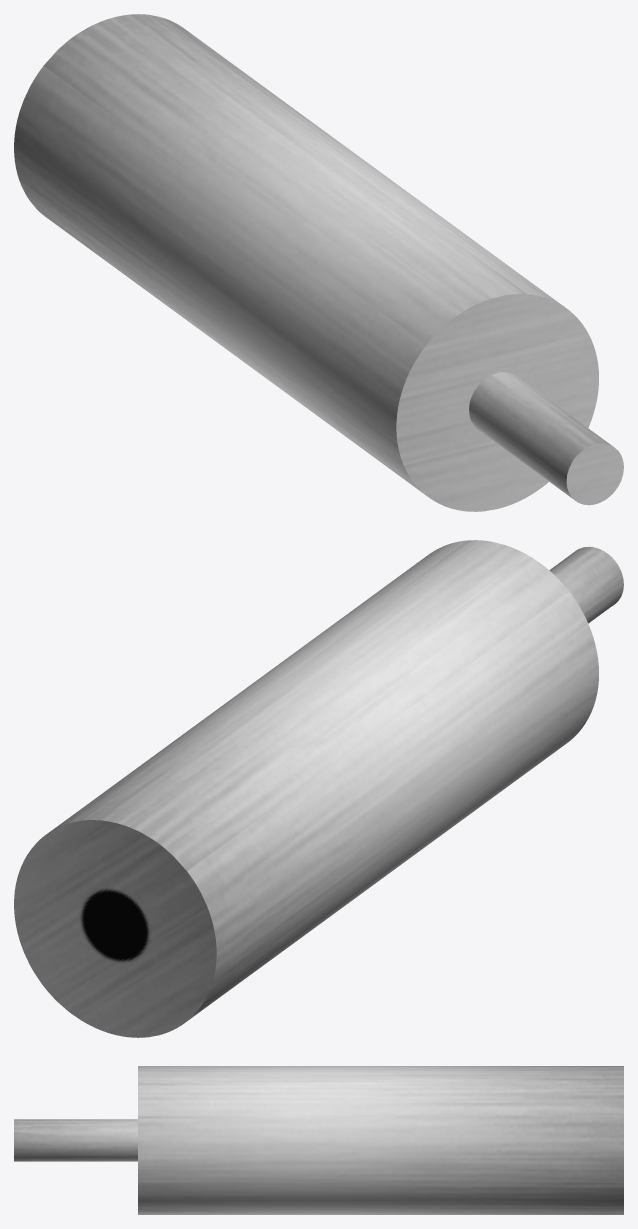
File: pole_bottom.dae
3 renders of one model, top to bottom at view 1: azimuth 30°, elevation 25°; view 2: azimuth 150°, elevation 25°; view 3: azimuth 270°, elevation 25°, orthographic. The views are drawn at different scales.
Parts seen in each view (by area): view 1: _f_pole; view 2: _f_pole; view 3: _f_pole.
Boxes of the visible parts, left/top/right/bottom form: _f_pole: left=14, top=14, right=623, bottom=511; _f_pole: left=14, top=540, right=623, bottom=1037; _f_pole: left=14, top=1066, right=623, bottom=1214.
Size of the model in its own units: 12 by 49.2 by 12.
1 material, 1 textured.
